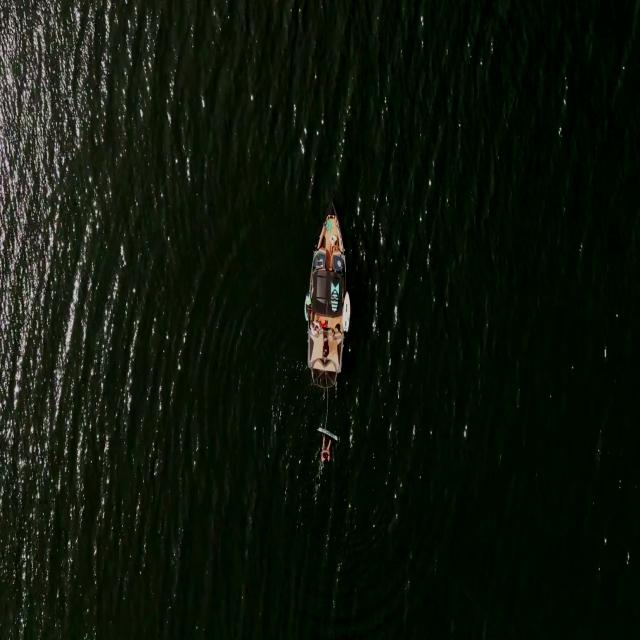ship: (306, 202, 344, 396), (341, 286, 352, 336)
